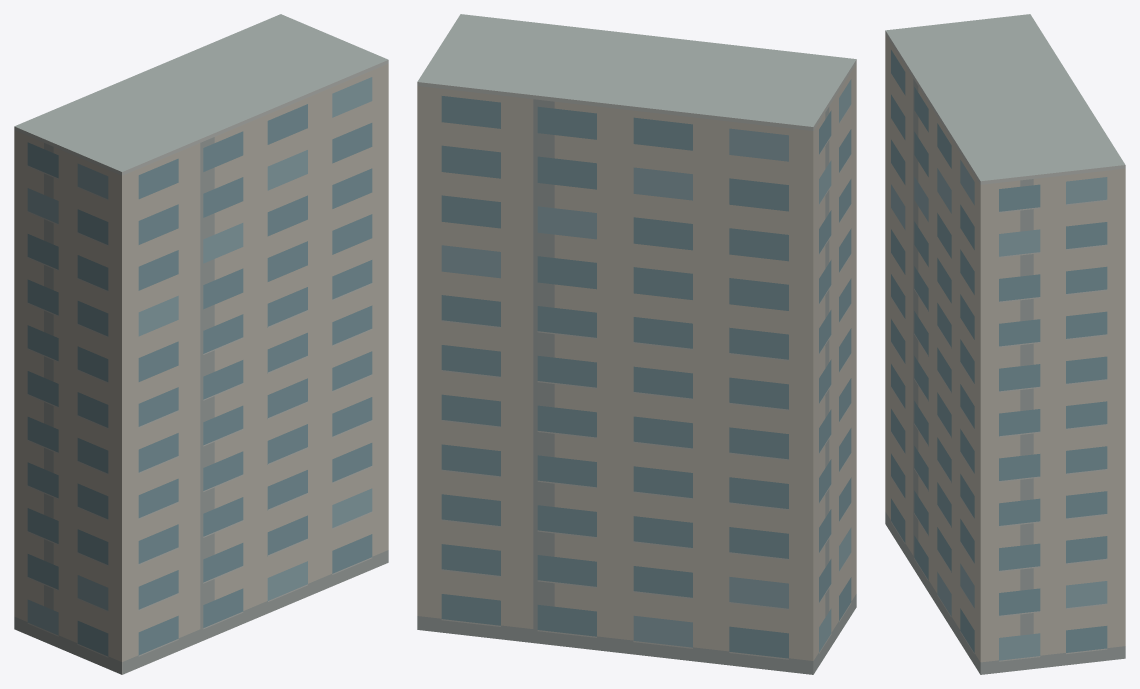
Rendered from residential-1f223167-ce10-4ed3-970c-401f6a823715.glb.
3 views of the same model, side by side, from view 1: azimuth 30°, elevation 25°; view 2: azimuth 150°, elevation 25°; view 3: azimuth 270°, elevation 25° (orthographic). The views are drawn at different scales.
Parts seen in each view (by area): view 1: residential-1f223167-ce10-4ed3-970c-401f6a823715.tmp; view 2: residential-1f223167-ce10-4ed3-970c-401f6a823715.tmp; view 3: residential-1f223167-ce10-4ed3-970c-401f6a823715.tmp.
Boxes of the visible parts, x1,y1,x2,y2 form: residential-1f223167-ce10-4ed3-970c-401f6a823715.tmp: (14,14,388,674); residential-1f223167-ce10-4ed3-970c-401f6a823715.tmp: (417,14,856,674); residential-1f223167-ce10-4ed3-970c-401f6a823715.tmp: (885,14,1125,674).
Bounding box in the file's own units: 23.99 × 33 × 14.56.
